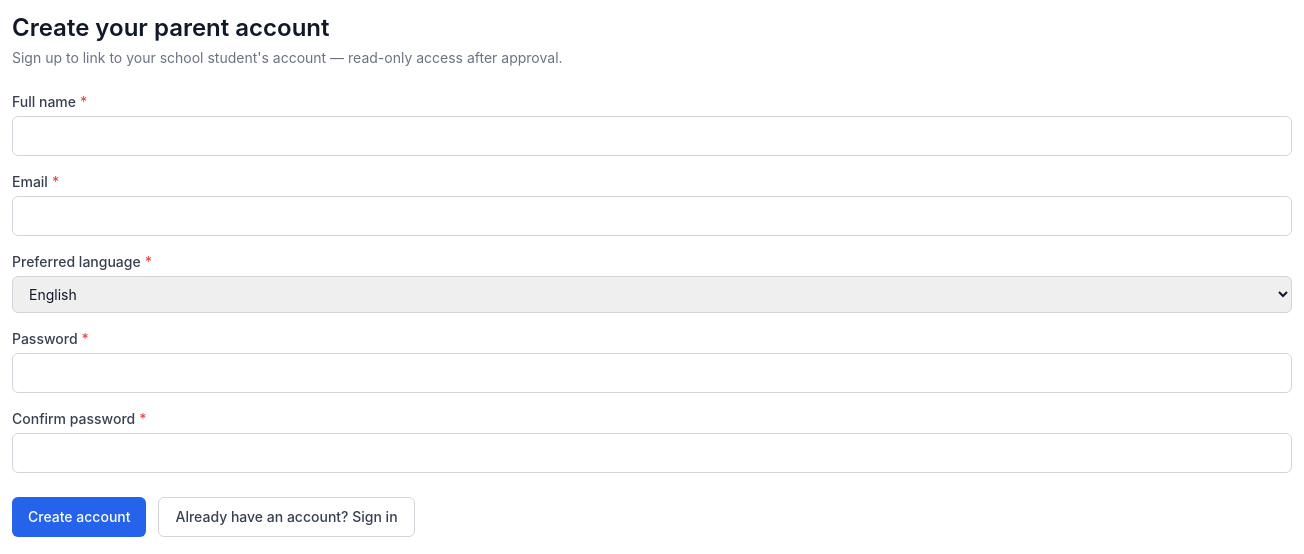
it: ParentSignupClient (T-080) › submits signup and shows success
Expected: the heading "Create your parent account" is shown, [12, 13, 330, 42]
Type "Parent User" into the field labelled "Full name*". click: (652, 136)
box: [12, 116, 1292, 156]
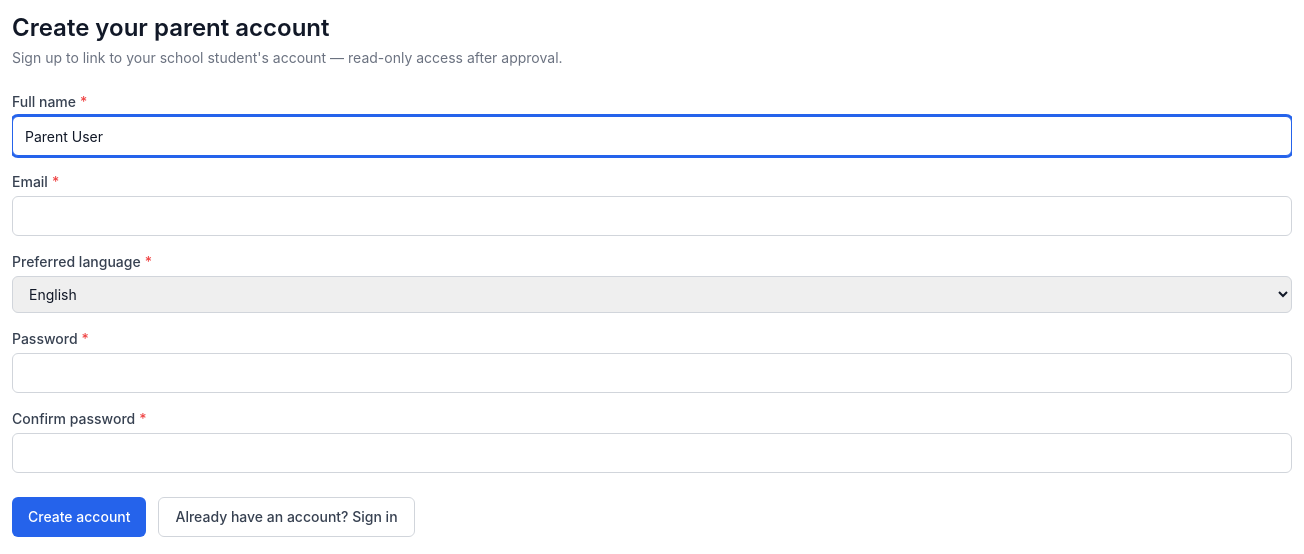
Type "parent@example.com" into the field labelled "Email*". click: (652, 216)
box: [12, 196, 1292, 236]
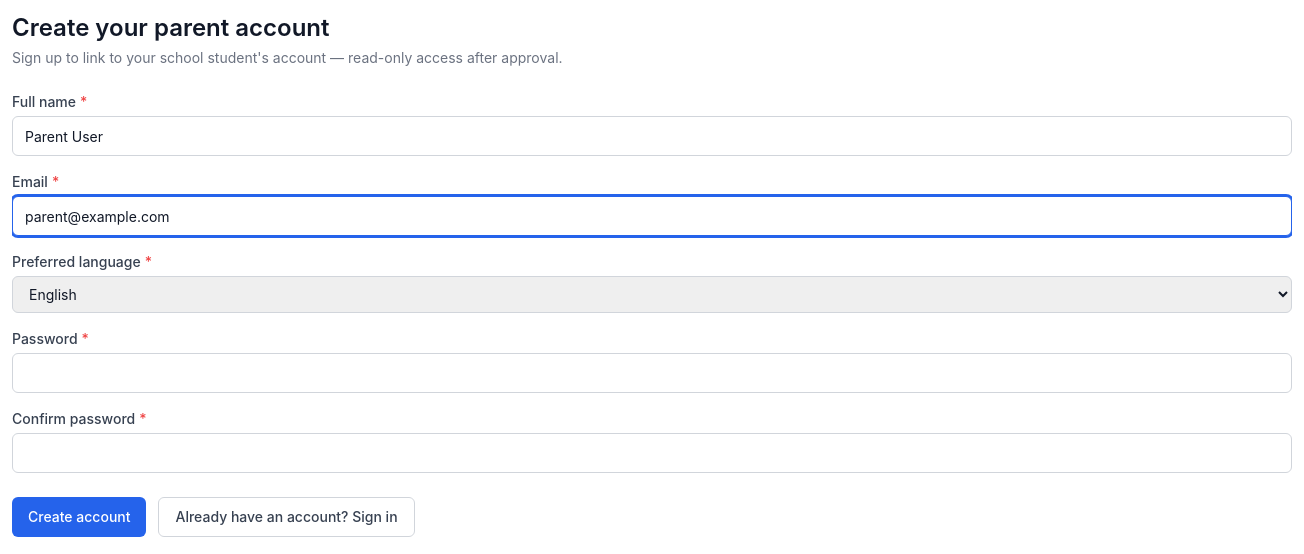
Type "password123" into the password field labelled "Password*". click: (652, 373)
box: [12, 353, 1292, 393]
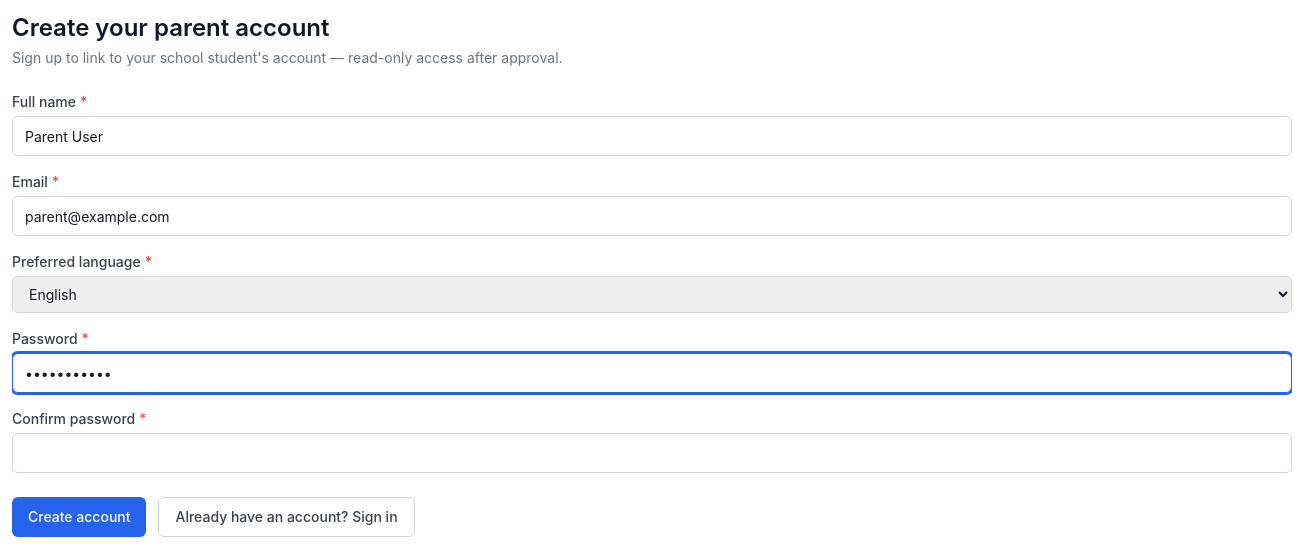
Type "password123" into the password field with id "confirm-password". click: (652, 453)
box: [12, 433, 1292, 473]
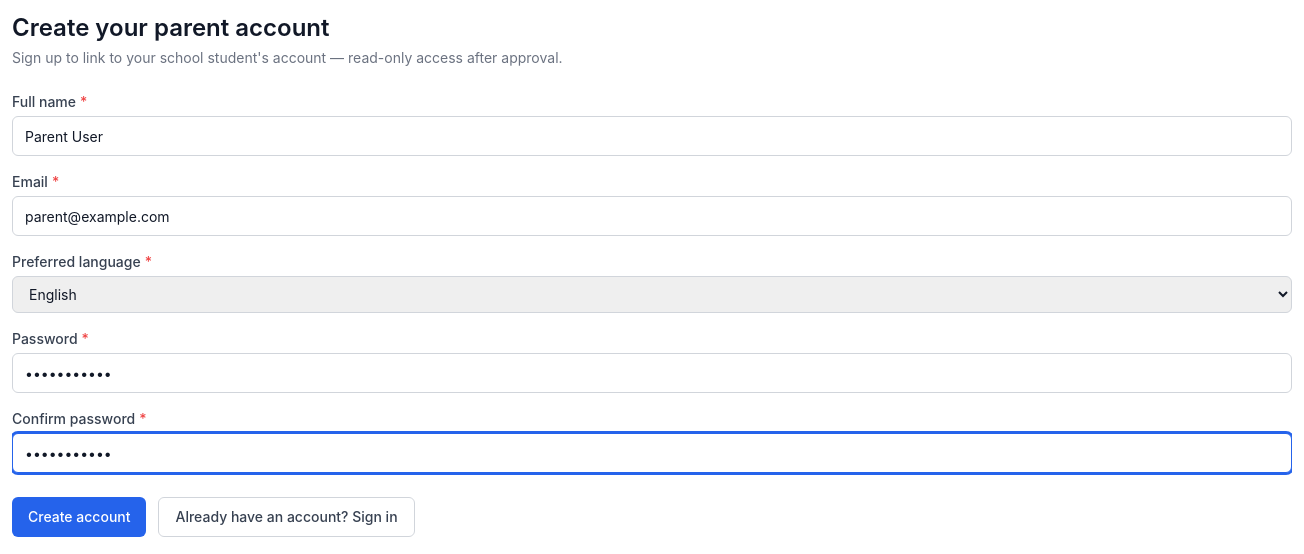
Click the button "Create account". click: (79, 517)
box: [12, 497, 146, 537]
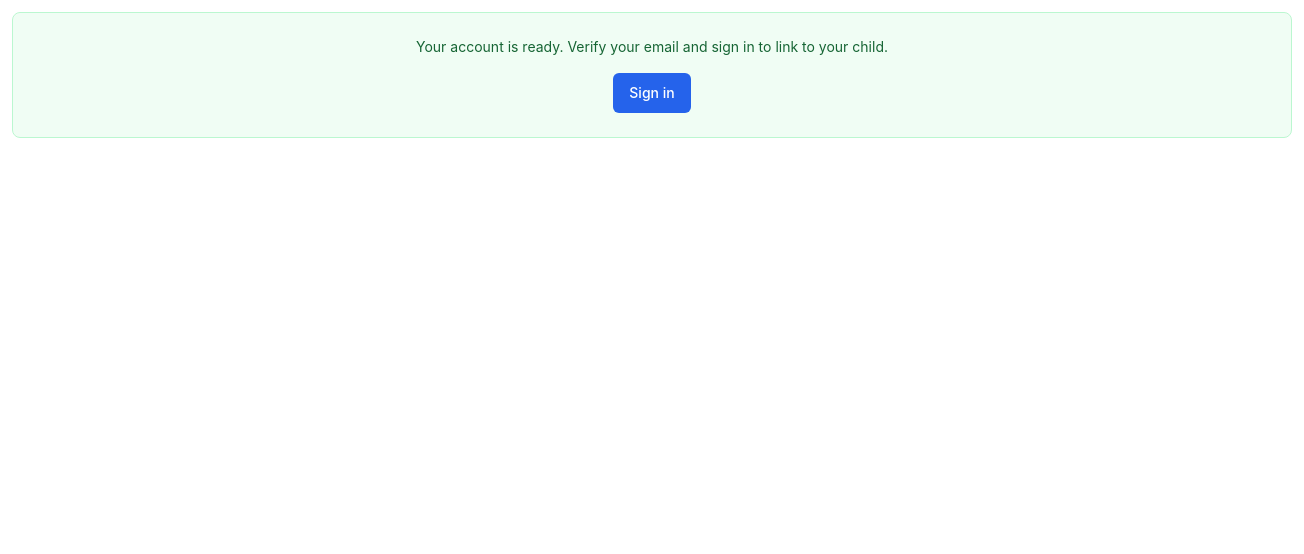
Now the text "Verify your email and sign in" is shown, box [416, 38, 888, 55]
